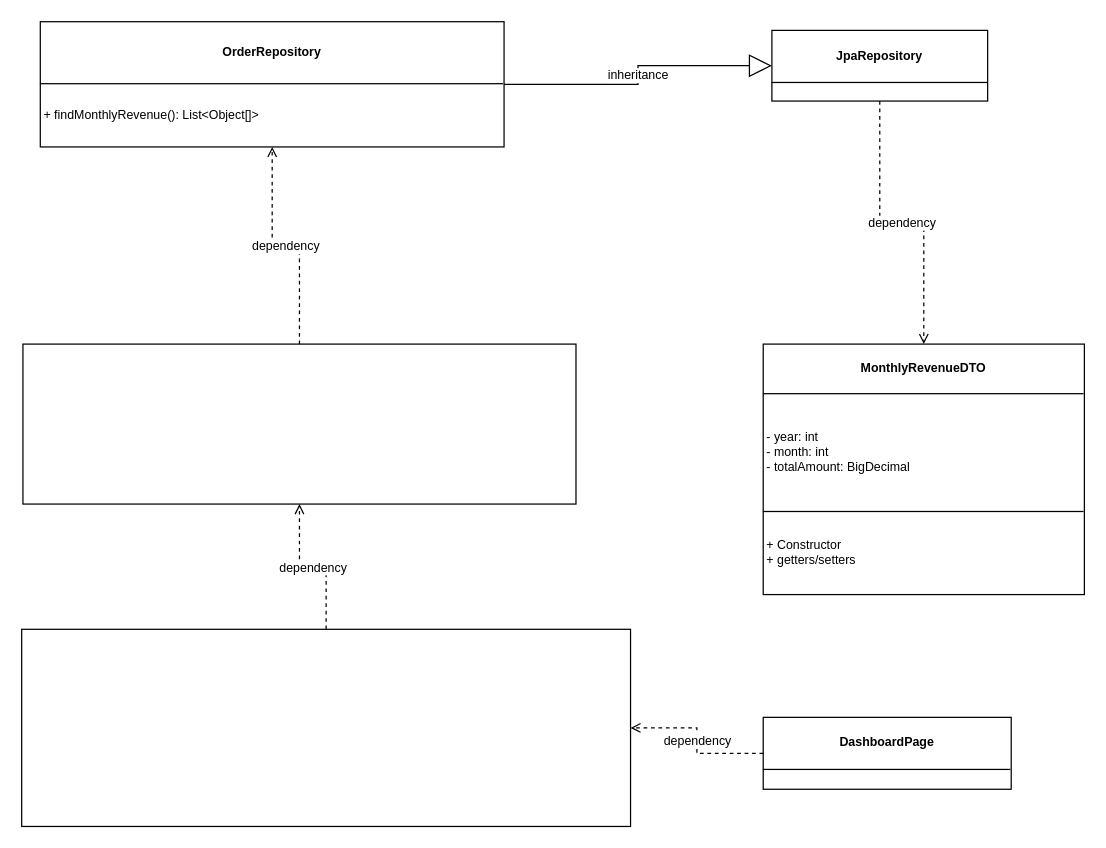
This 1106x848 diagram has some shape labels left out. Here are the shapes that lost their labels. From the top down, the centre of each, then its label:
point (299, 423): StatisticsService + getMonthlyRevenue(): List<MonthlyRevenueDTO>
point (325, 727): StatisticsRestController + monthlyRevenue(): List<MonthlyRevenueDTO>
